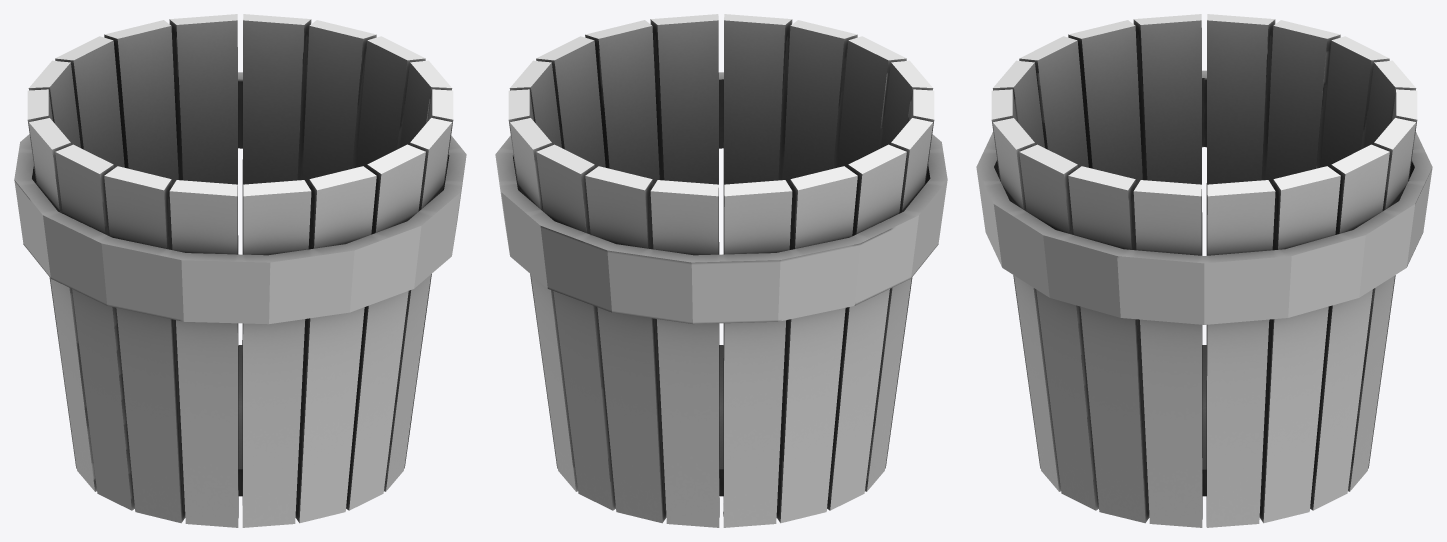
The model's file is Bucket.fbx.
The picture shows the model from 3 angles, left to right: view 1: azimuth 30°, elevation 25°; view 2: azimuth 150°, elevation 25°; view 3: azimuth 270°, elevation 25°; orthographic projection.
Visible parts, largest first — view 1: Bucket_LOD0; view 2: Bucket_LOD0; view 3: Bucket_LOD0.
Boxes of the visible parts, box(x1,y1,x2,y2) form: Bucket_LOD0: box(14, 14, 466, 527); Bucket_LOD0: box(495, 14, 947, 527); Bucket_LOD0: box(976, 14, 1432, 527).
Size of what is drawn, in the model's own units: 63.16 by 54.24 by 63.16.
